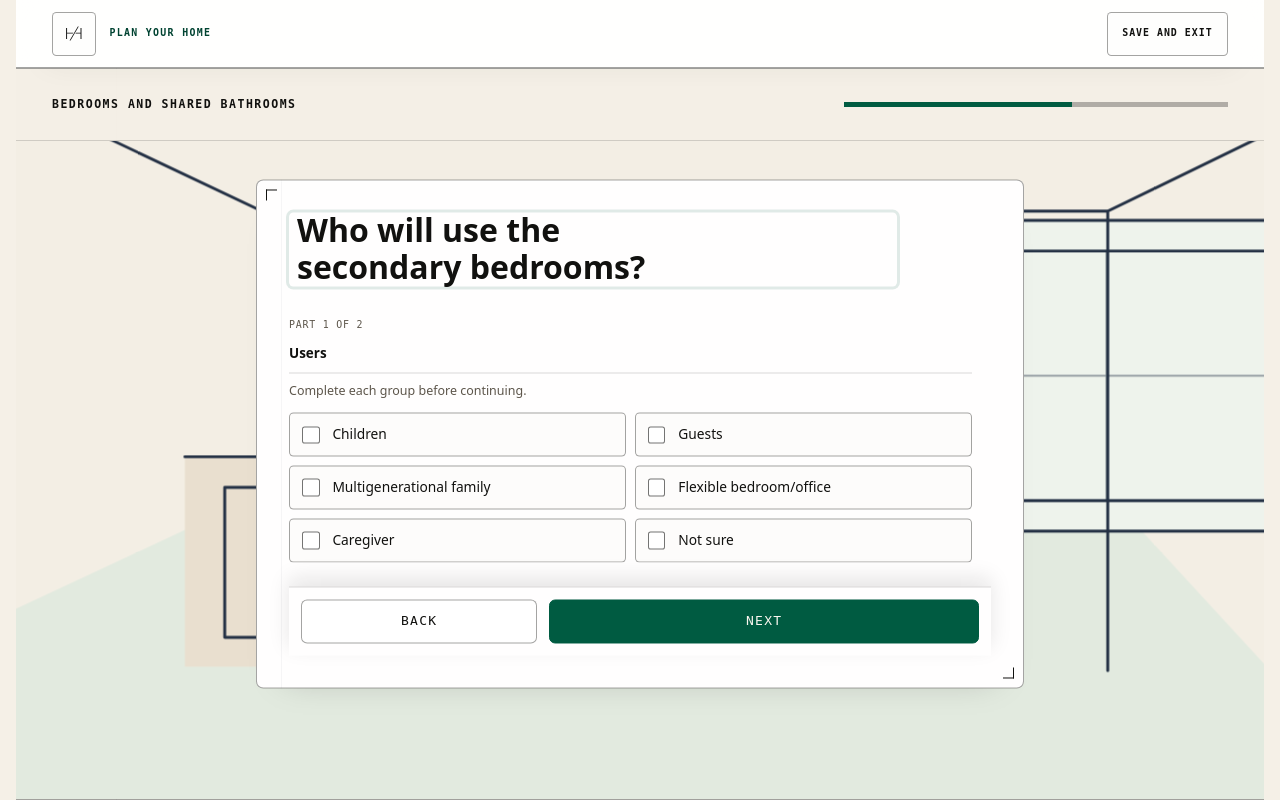
Test: Back crosses directly into the Primary Suite and keeps the grouped bedroom answer
Expected: the heading "Who will use the secondary bedrooms?" is shown, [289,212,897,286]
Click the checkbox labelled "Children".
click(360, 434)  # box [289,413,626,457]
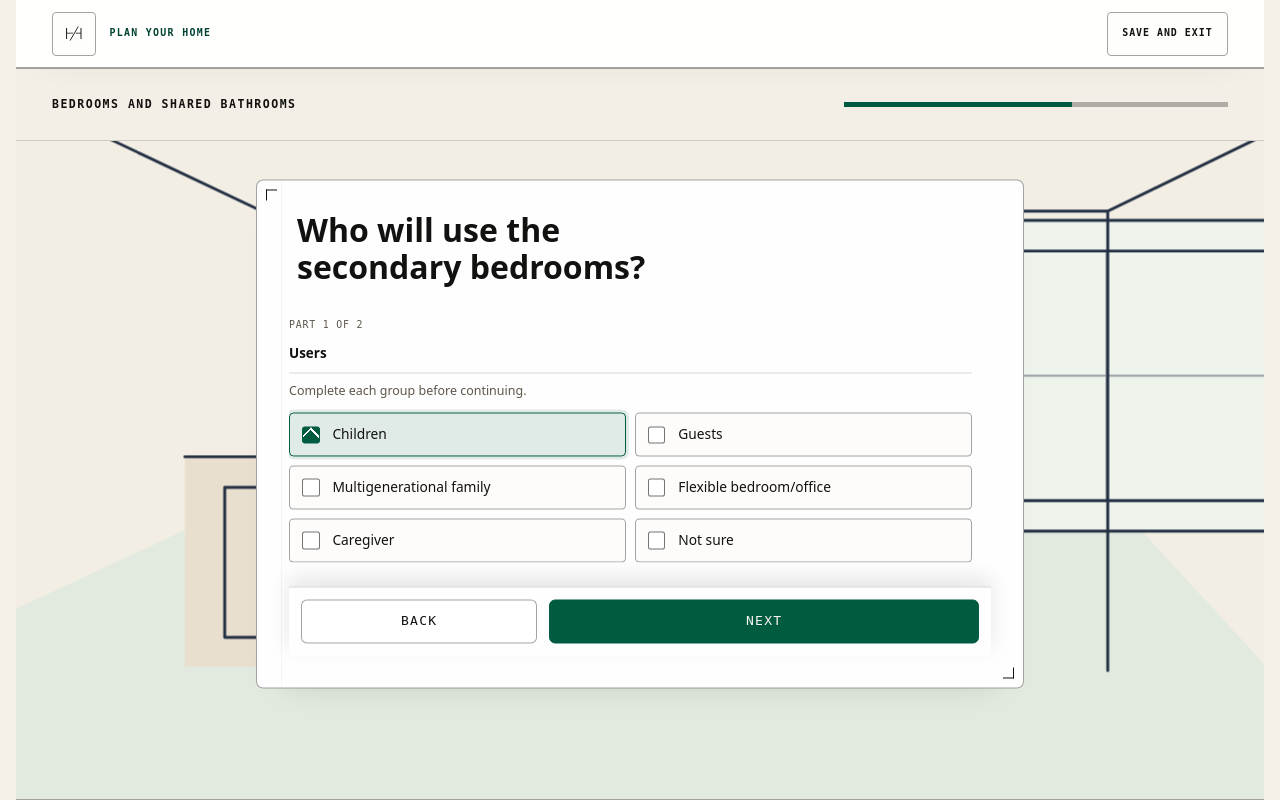
Click the button "Next".
click(764, 622)  # box [549,600,979,644]
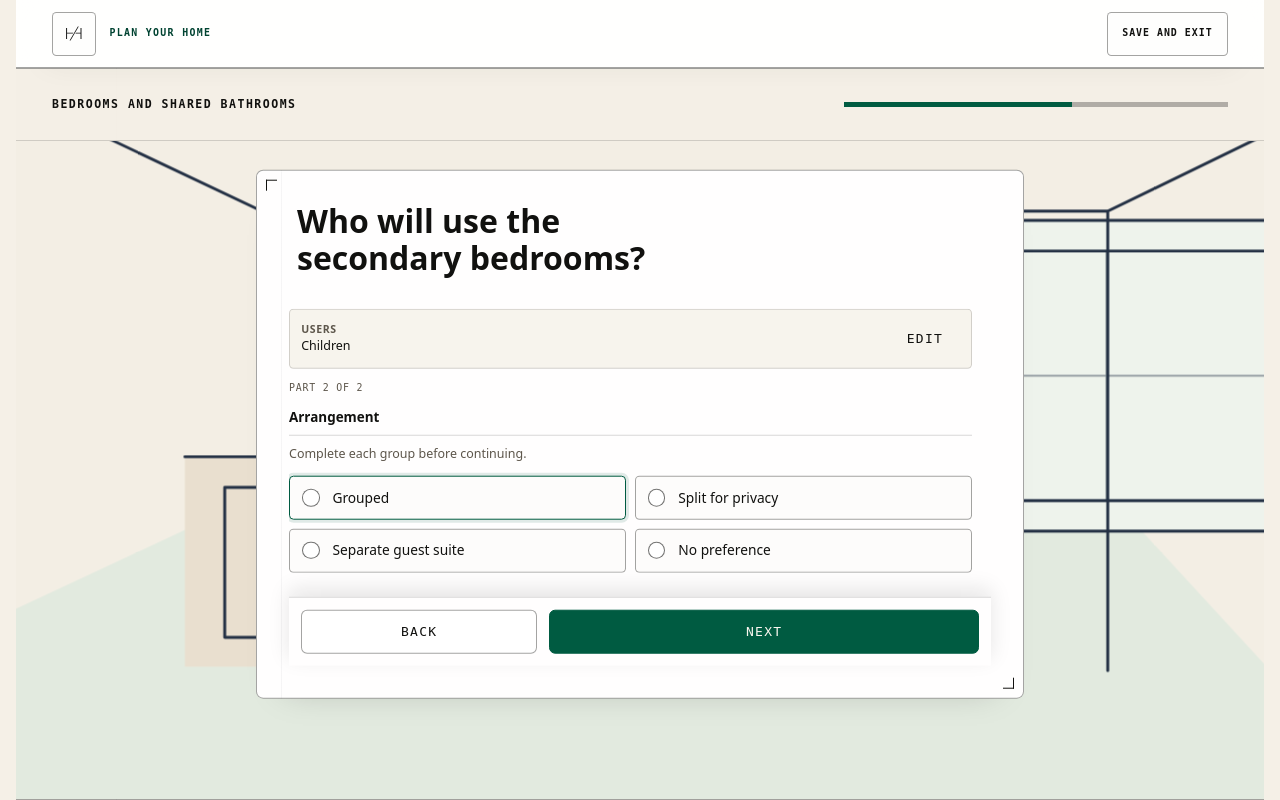
Click the radio button labelled "Grouped".
click(361, 497)  # box [289,476,626,520]
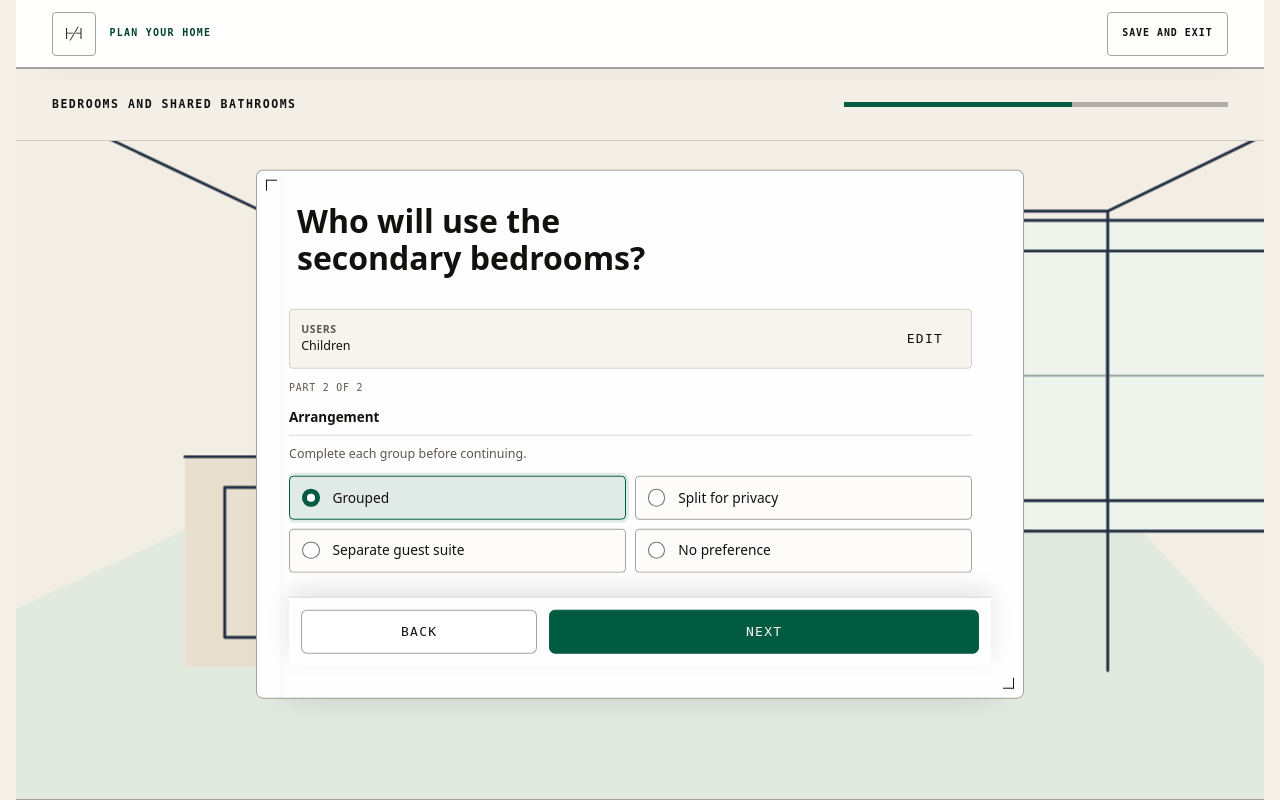
Click the button "Back".
click(419, 631)  # box [301,609,537,653]
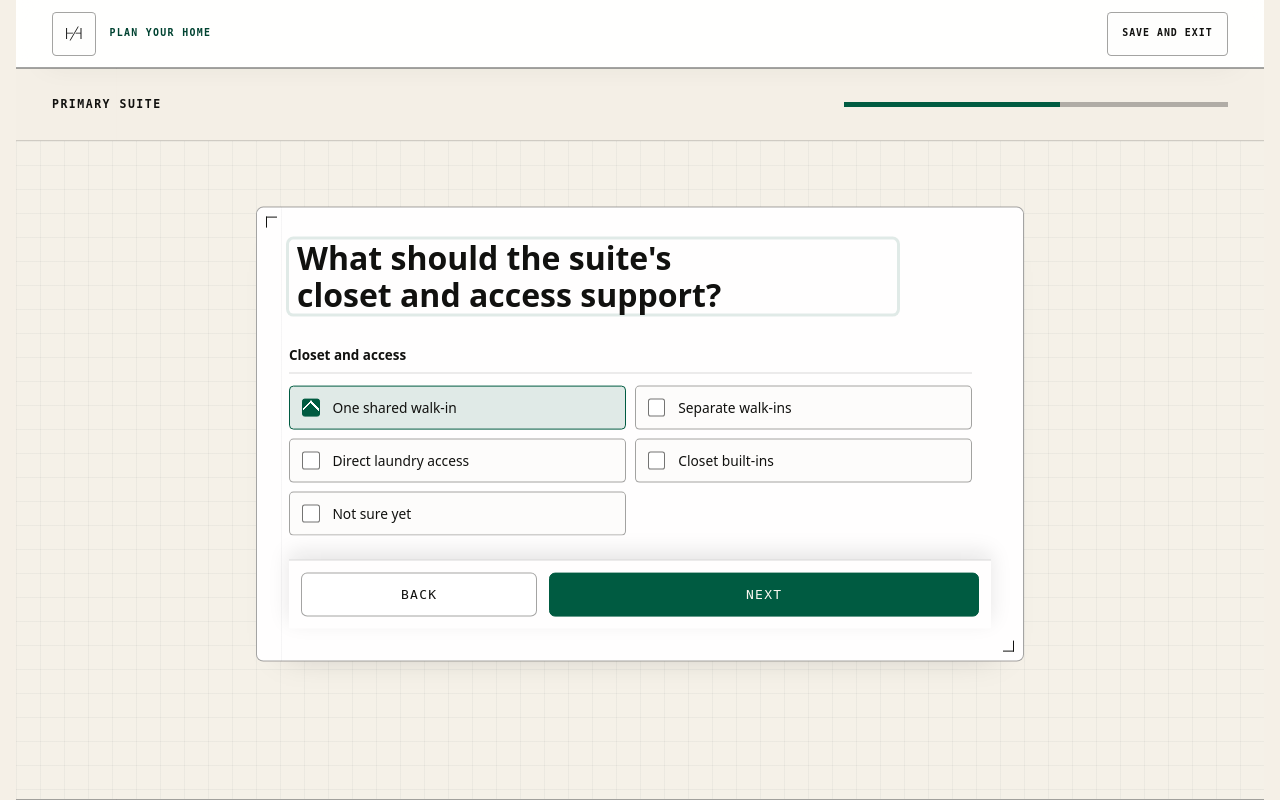
Expected: the heading "What should the suite's closet and access support?" is shown, [289,240,897,313]
Click the button "Next".
click(764, 594)  # box [549,572,979,616]
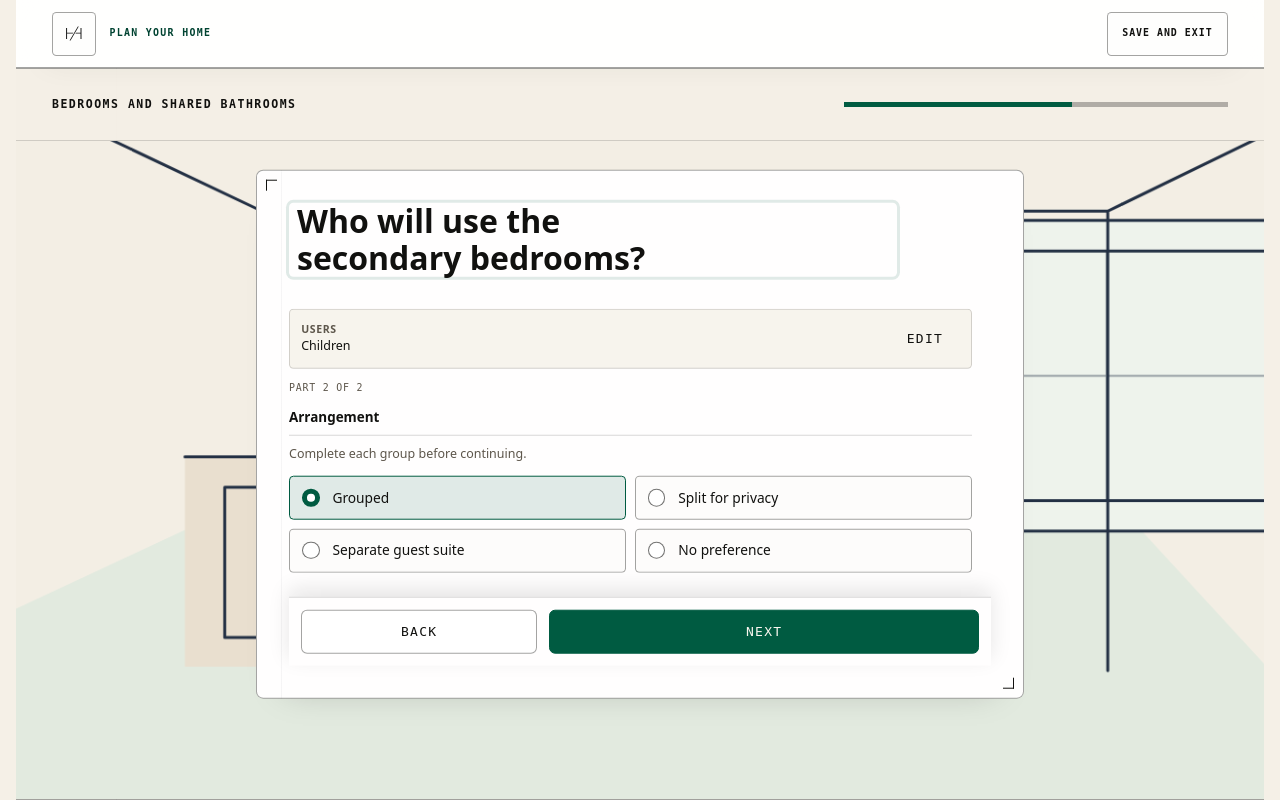
Expected: the heading "Who will use the secondary bedrooms?" is shown, [289,203,897,276]
Expected: the element named "Completed Users" shows "Children", [301,337,350,354]
